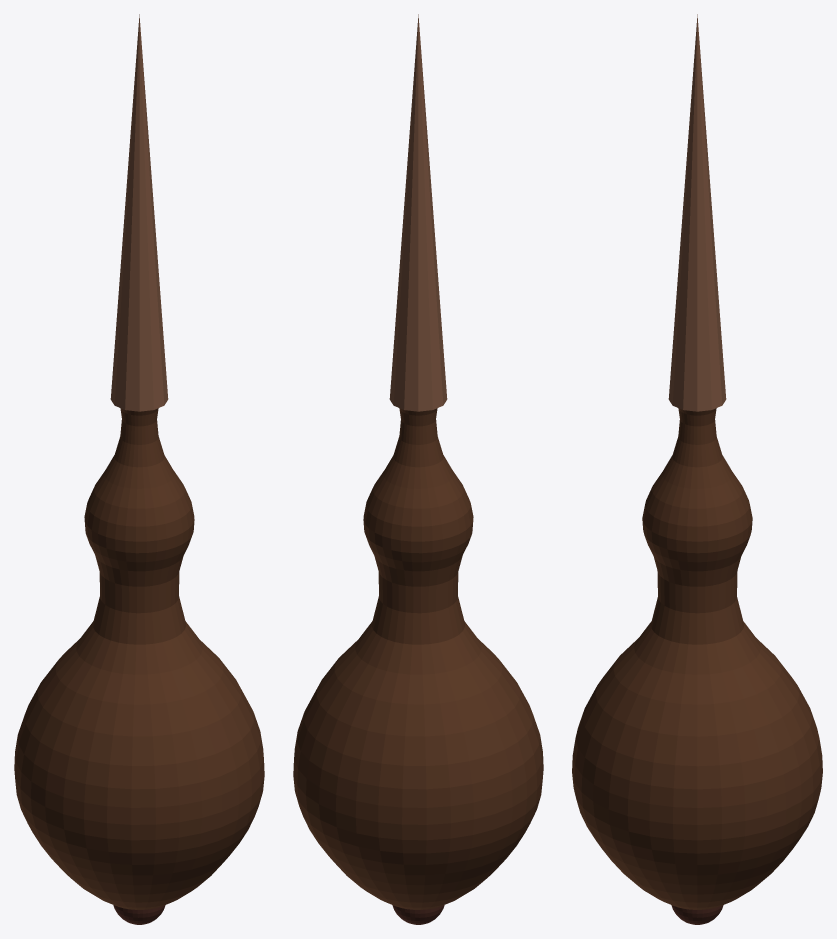
File: Wand 623.glb
3 renders of one model, left to right at view 1: azimuth 30°, elevation 25°; view 2: azimuth 150°, elevation 25°; view 3: azimuth 270°, elevation 25°, orthographic.
Parts seen in each view (by area): view 1: GeneratedWand; view 2: GeneratedWand; view 3: GeneratedWand.
Boxes of the visible parts, x1,y1,x2,y2 form: GeneratedWand: (14,14,264,924); GeneratedWand: (293,14,543,924); GeneratedWand: (572,14,822,924).
Bounding box in the file's own units: 0.123 × 0.4912 × 0.123.
